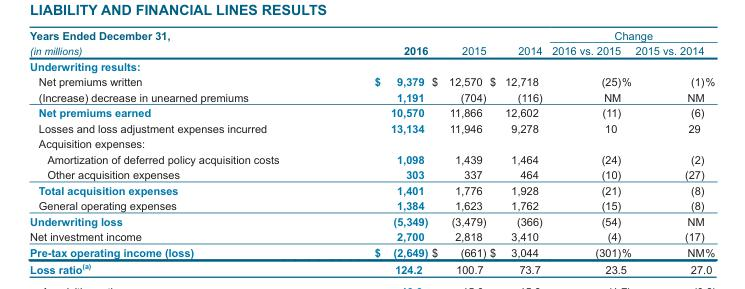table: (29, 28, 714, 258)
table column: (29, 28, 326, 258), (326, 28, 429, 258), (546, 28, 632, 258), (632, 28, 714, 258), (487, 28, 546, 258), (429, 28, 487, 258)
table column header: (29, 28, 714, 58)
table projected row header: (29, 135, 714, 151), (29, 58, 714, 73)
table row: (29, 42, 714, 58), (29, 73, 714, 89), (29, 104, 714, 120), (29, 135, 714, 151), (29, 166, 714, 182), (29, 197, 714, 213), (29, 228, 714, 244), (29, 58, 714, 73), (29, 89, 714, 104), (29, 120, 714, 135), (29, 151, 714, 166), (29, 182, 714, 197), (29, 213, 714, 228), (29, 28, 714, 42), (29, 244, 714, 258)
table spanning cell: (29, 28, 326, 58), (326, 28, 429, 58), (546, 28, 714, 42), (487, 28, 546, 58), (429, 28, 487, 58)
